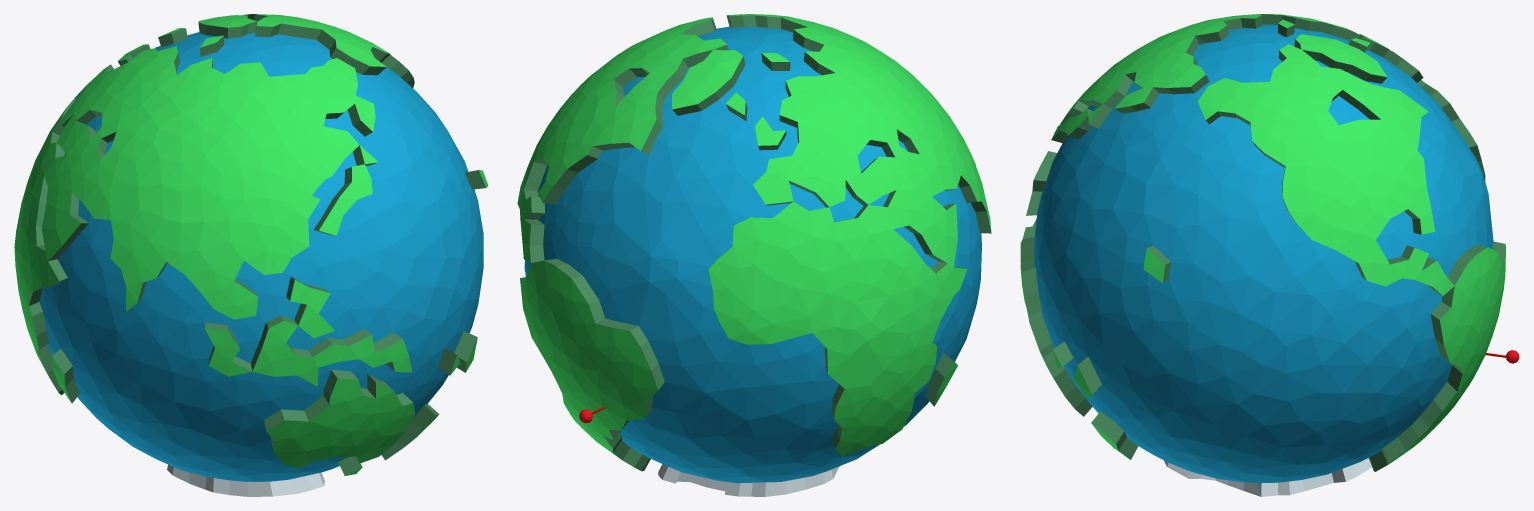
The model's file is low_poly_earth.gltf.
The picture shows the model from 3 angles, left to right: view 1: azimuth 30°, elevation 25°; view 2: azimuth 150°, elevation 25°; view 3: azimuth 270°, elevation 25°; orthographic projection.
Visible parts, largest first — view 1: Sphere; view 2: Sphere; view 3: Sphere.
Part boxes in pixels (<box>): Sphere: <box>14,14,488,496</box>; Sphere: <box>517,14,991,496</box>; Sphere: <box>1020,14,1505,496</box>.
Size of the model in its own units: 2.04 by 2.11 by 2.17.
